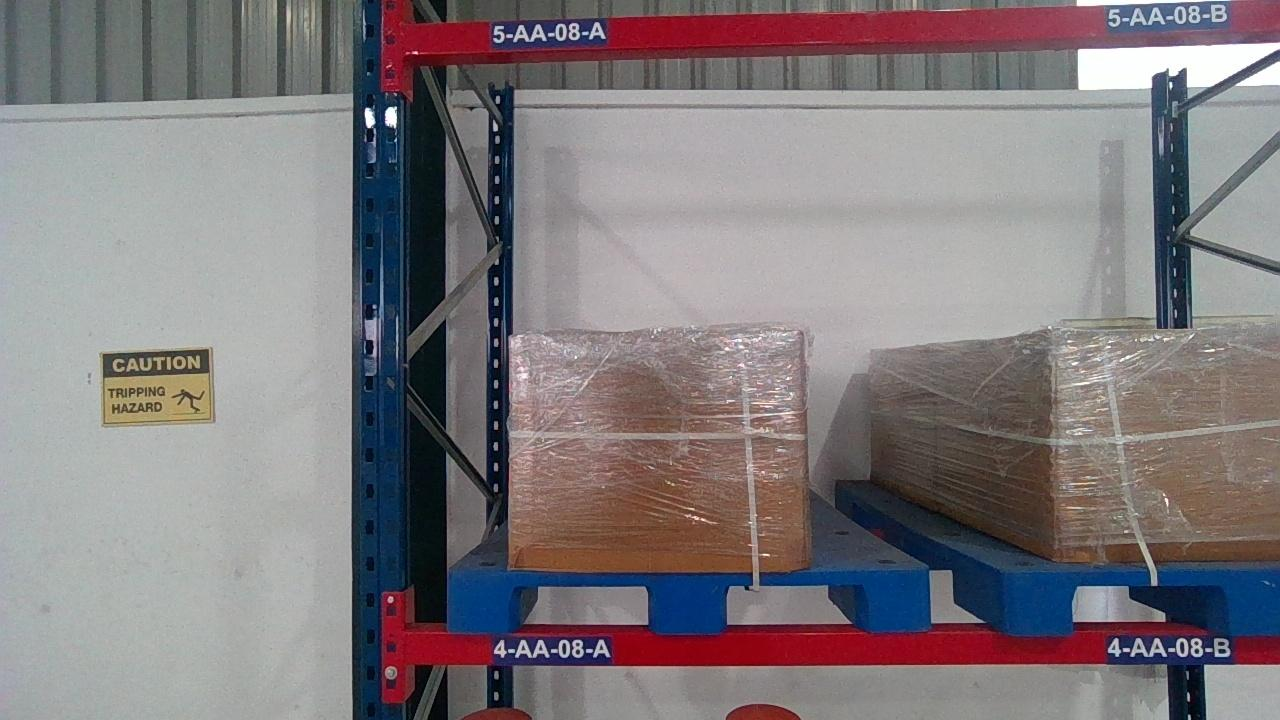h_rack: (401, 0, 1276, 53), (405, 629, 1276, 664)
small_pallet: (443, 571, 933, 630), (1009, 570, 1279, 631)
